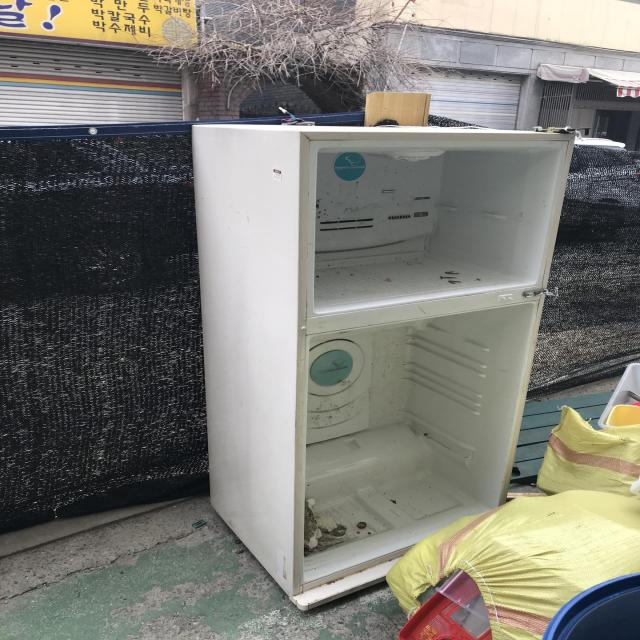refrigerator: (188, 113, 579, 614)
